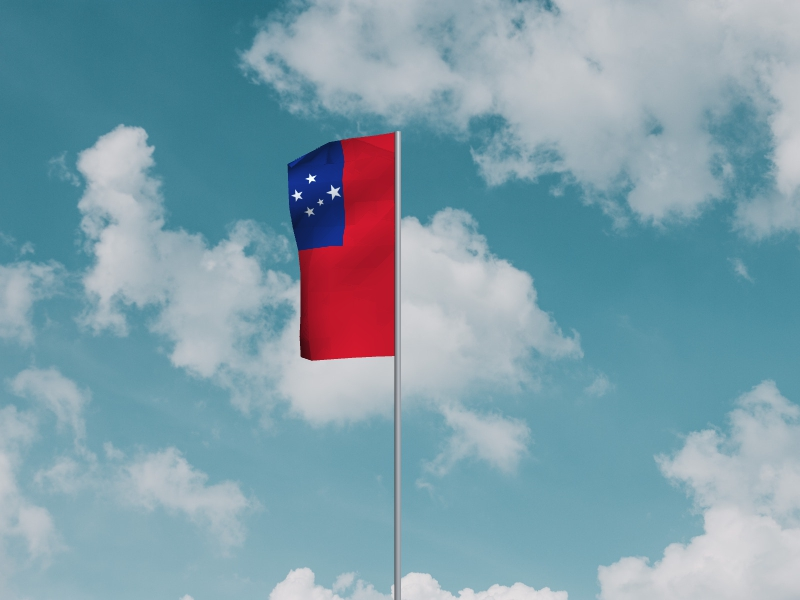ws: (286, 134, 395, 362)
